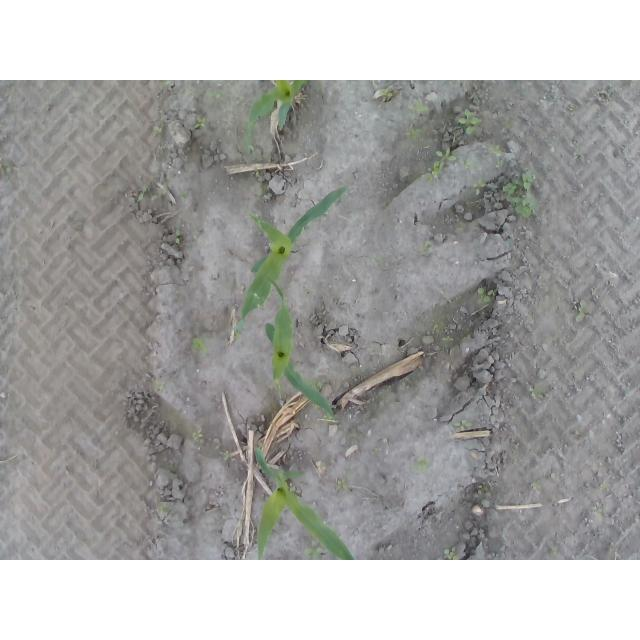Maize: (237, 184, 351, 330), (255, 448, 357, 561), (265, 274, 335, 413), (243, 80, 310, 156)
Weeds: (503, 170, 542, 217), (426, 148, 457, 185), (458, 109, 483, 136), (493, 144, 512, 169), (432, 323, 453, 344), (574, 302, 592, 323), (476, 287, 492, 306), (473, 178, 487, 196), (529, 384, 543, 401), (191, 339, 208, 353), (415, 101, 433, 114), (450, 419, 471, 430), (419, 240, 433, 256), (307, 542, 321, 558), (256, 183, 272, 197), (375, 88, 394, 99), (442, 548, 458, 561), (476, 484, 492, 497), (463, 159, 481, 170), (407, 126, 418, 143), (336, 479, 348, 492), (530, 482, 542, 495), (419, 457, 430, 471), (369, 255, 384, 265), (310, 380, 322, 392), (208, 89, 225, 97), (192, 431, 204, 442), (194, 119, 207, 129), (593, 506, 603, 519), (224, 450, 234, 462), (0, 163, 12, 173), (208, 81, 225, 88), (174, 231, 182, 245), (288, 483, 296, 494), (180, 191, 191, 199), (322, 413, 333, 420), (158, 506, 166, 512), (321, 519, 327, 525)
